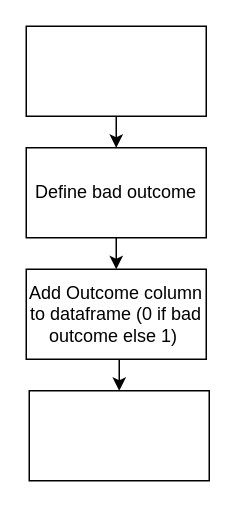
Image size: 236x507. Some labels were removed from this diagram. The shapes that lost their labels are listed below. From the top down, each one's centre as x and y in pixels, then its label:
the point at 115,70: Read dataframe from CSV
the point at 118,435: Exporting the data to CSV
